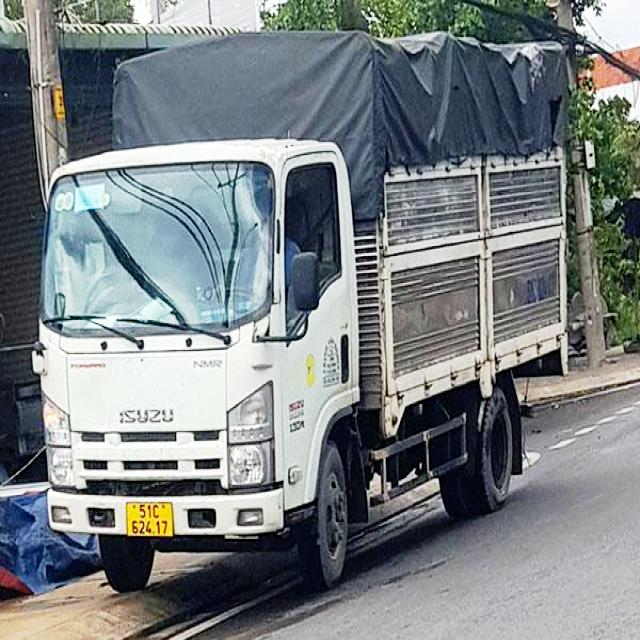license_plate: (128, 503, 176, 537)
